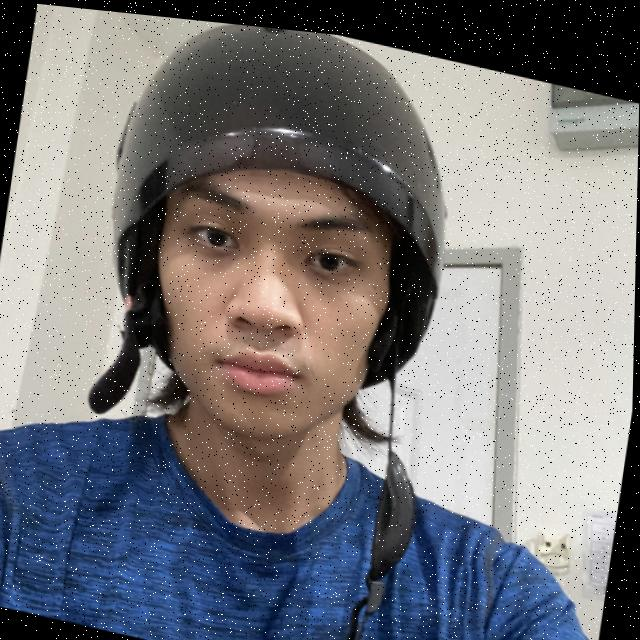illegal_helmet: (44, 4, 493, 640)
